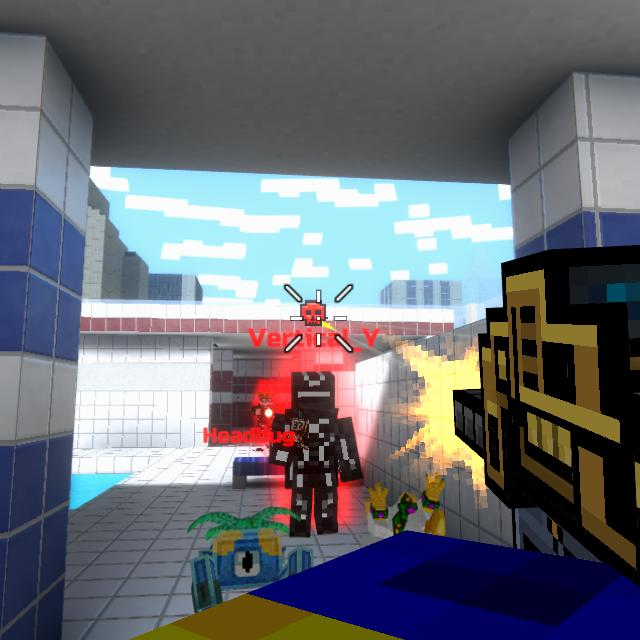Enemy: (269, 369, 362, 534)
